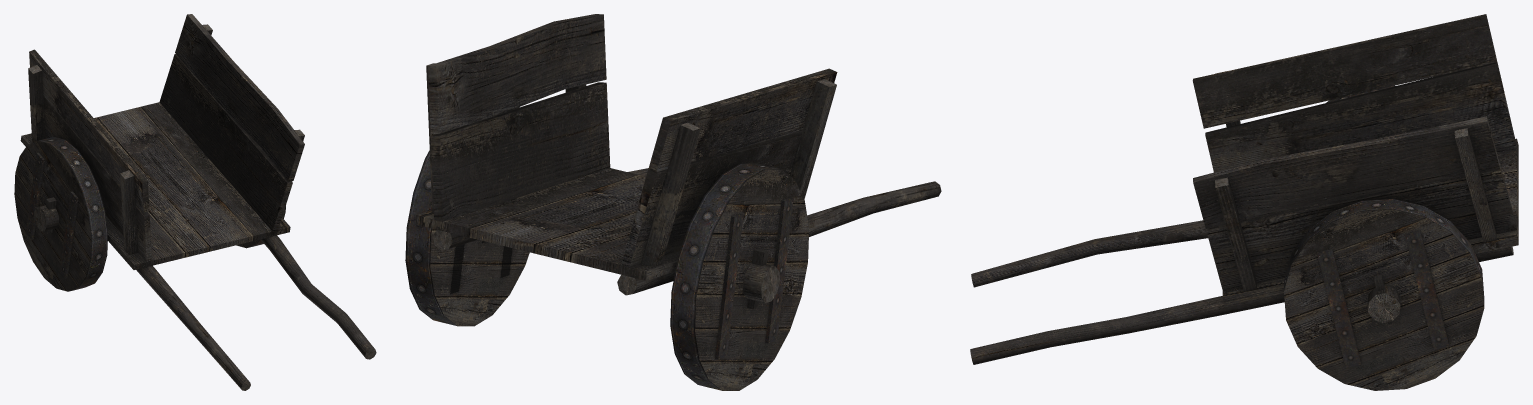
Rendered from Wagon3.fbx.
3 renders of one model, left to right at view 1: azimuth 30°, elevation 25°; view 2: azimuth 150°, elevation 25°; view 3: azimuth 270°, elevation 25°, orthographic. The views are drawn at different scales.
Visible parts, largest first — view 1: Wagon3:polySurface1; view 2: Wagon3:polySurface1; view 3: Wagon3:polySurface1.
Part boxes in pixels (<box>): Wagon3:polySurface1: <box>14,14,376,390</box>; Wagon3:polySurface1: <box>405,14,941,390</box>; Wagon3:polySurface1: <box>970,14,1518,390</box>.
Bounding box in the file's own units: 8.45 × 7.44 × 14.01.
